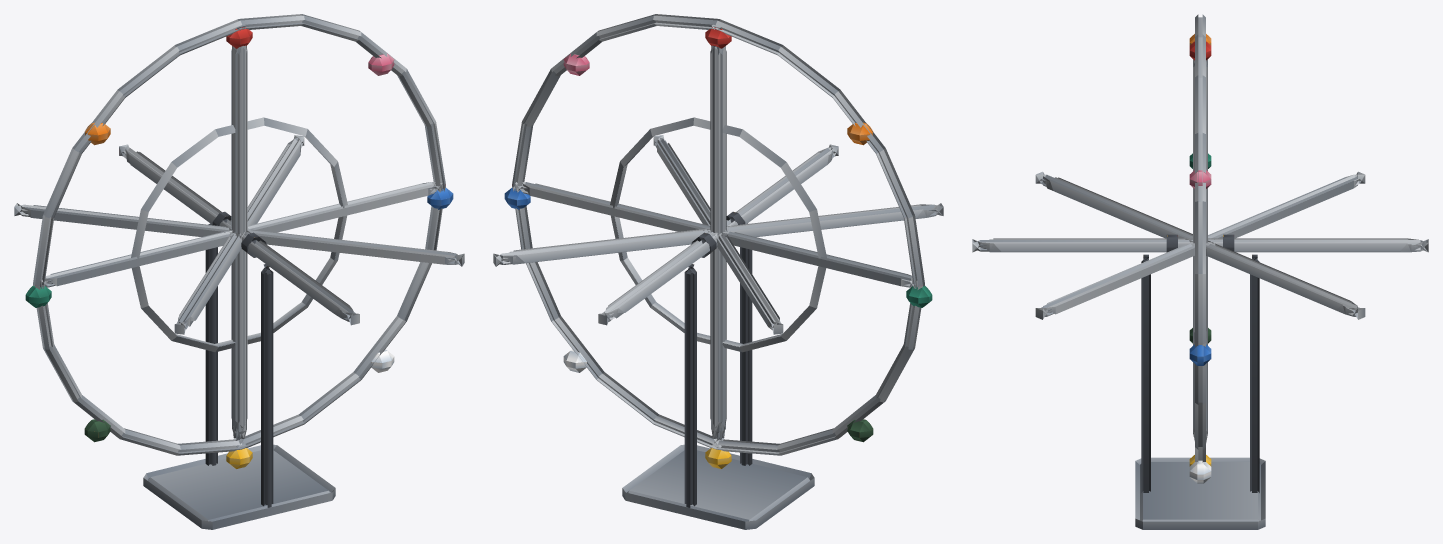
Rendered from dt_ferris_wheel.fbx.
3 views of the same model, side by side, from view 1: azimuth 30°, elevation 25°; view 2: azimuth 150°, elevation 25°; view 3: azimuth 270°, elevation 25° (orthographic).
Visible parts, largest first — view 1: dt_ferris_wheel; view 2: dt_ferris_wheel; view 3: dt_ferris_wheel.
Boxes of the visible parts, x1,y1,x2,y2 form: dt_ferris_wheel: (14, 14, 464, 529); dt_ferris_wheel: (493, 14, 943, 529); dt_ferris_wheel: (972, 14, 1428, 529).
Bounding box in the file's own units: 4673 × 5000 × 4420.
